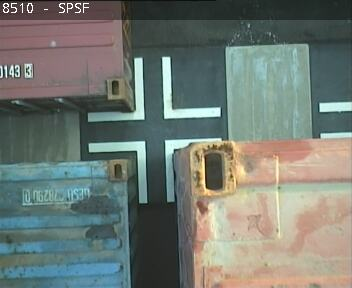groundmarker_1: (86, 56, 221, 122), (87, 138, 222, 204)
